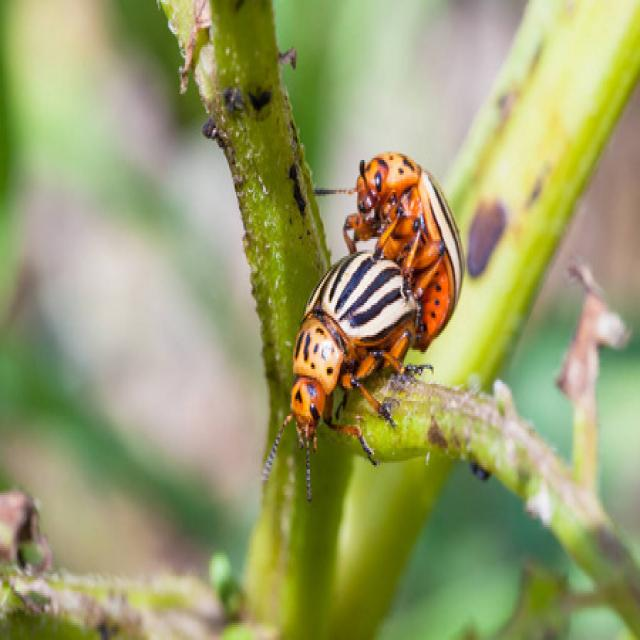ShuCaiHuaBanChong-Grown-: (283, 239, 410, 441), (363, 149, 472, 342)
